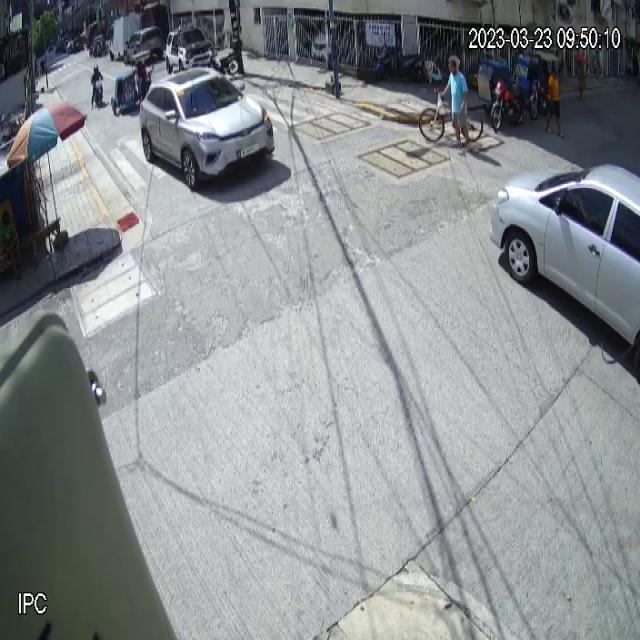Car: (490, 160, 640, 374), (138, 67, 274, 196)
